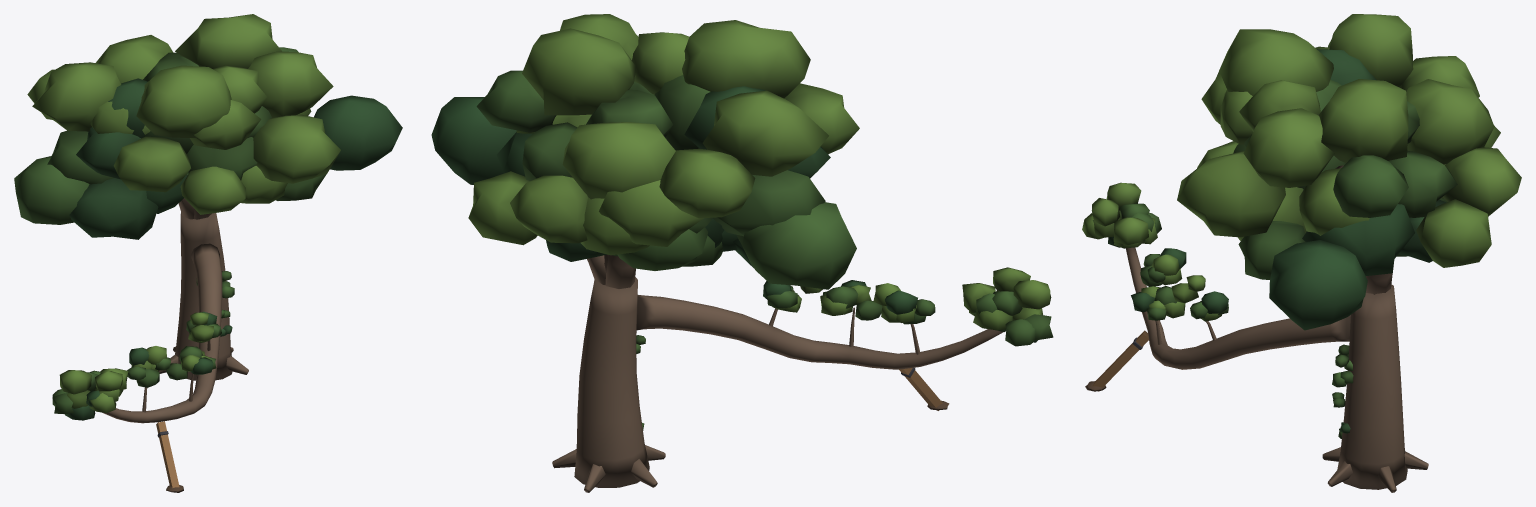
File: OakBough.fbx
3 renders of one model, left to right at view 1: azimuth 30°, elevation 25°; view 2: azimuth 150°, elevation 25°; view 3: azimuth 270°, elevation 25°, orthographic. The views are drawn at different scales.
Parts seen in each view (by area): view 1: OakBough; view 2: OakBough; view 3: OakBough.
Part boxes in pixels (x1,y1,x2,y2): OakBough: [14, 14, 402, 492]; OakBough: [431, 14, 1053, 492]; OakBough: [1082, 14, 1521, 492].
Bounding box in the file's own units: 8.56 × 6.74 × 6.62.
